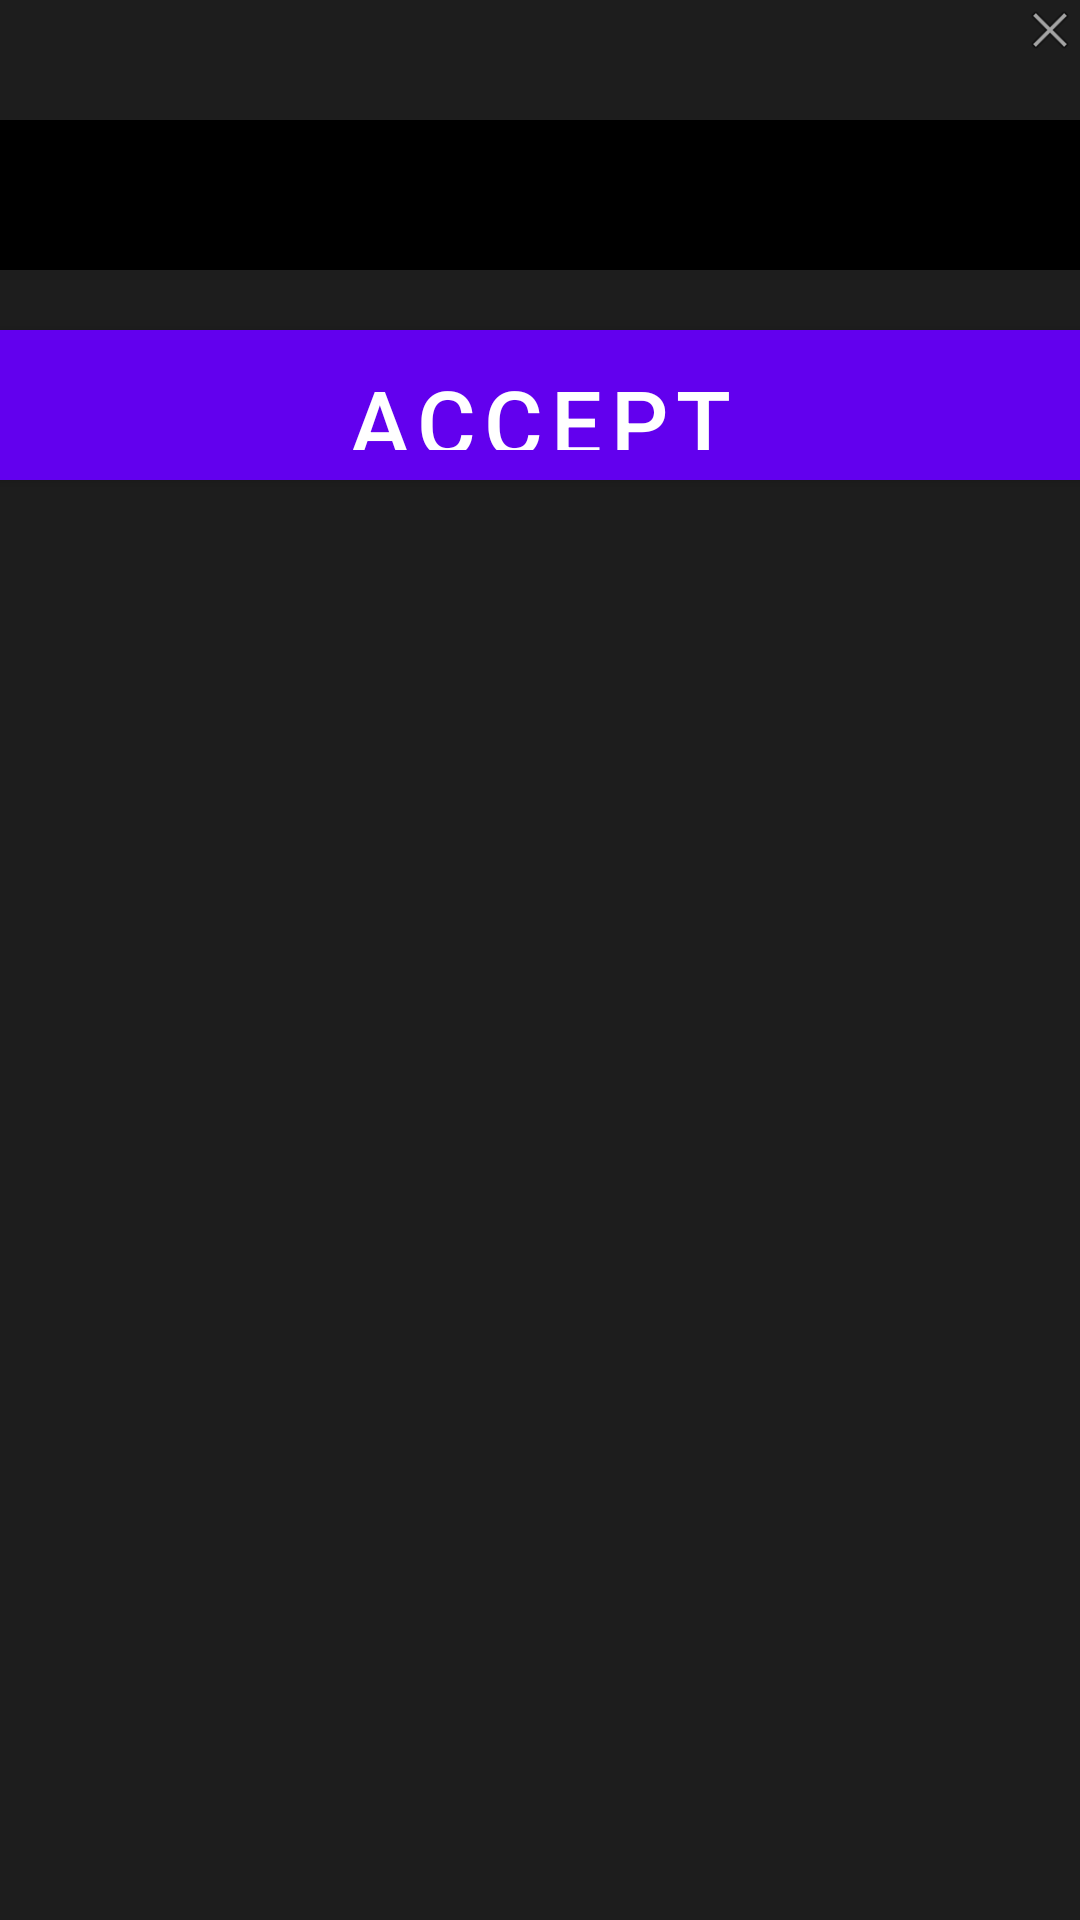

Icons on this 1080x1920 Android screen, each with its box as {"left": x1, "top": y1, "right": x2, "bottom": y2}:
close clear cancel: {"left": 1033, "top": 13, "right": 1067, "bottom": 47}
